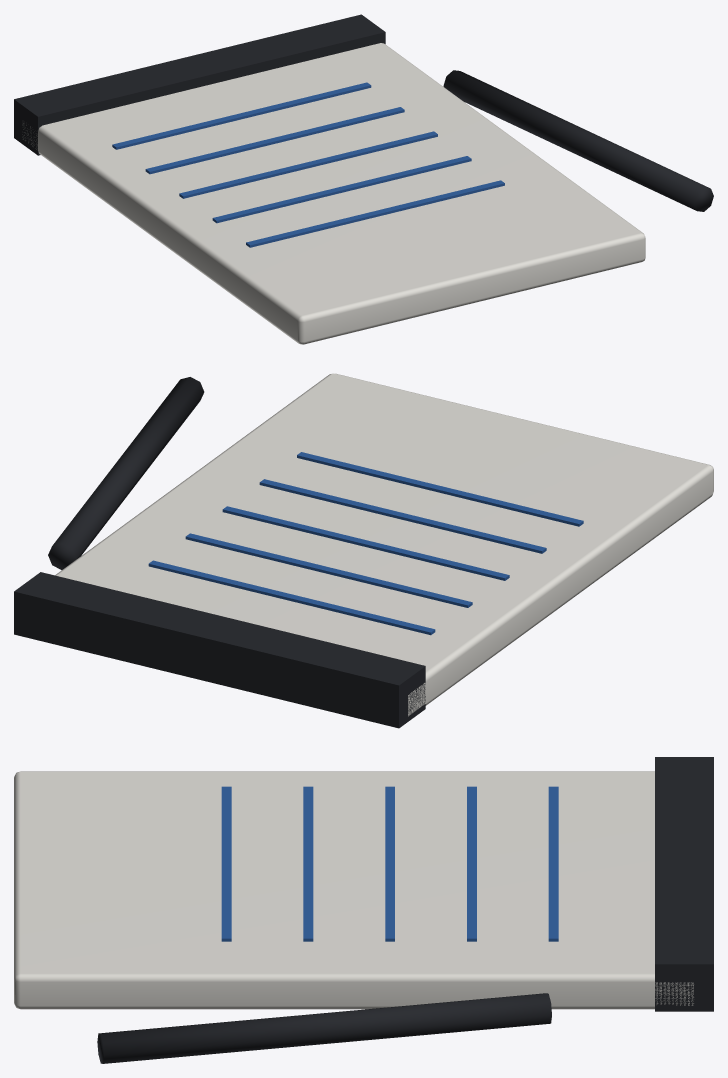
The model's file is RmNotepad.fbx.
3 views of the same model, one above another, from view 1: azimuth 30°, elevation 25°; view 2: azimuth 150°, elevation 25°; view 3: azimuth 270°, elevation 25° (orthographic). The views are drawn at different scales.
Parts seen in each view (by area): view 1: RmNotepadBody; view 2: RmNotepadBody; view 3: RmNotepadBody.
Boxes of the visible parts, box(x1,y1,x2,y2) form: RmNotepadBody: box(14, 14, 713, 344); RmNotepadBody: box(14, 373, 713, 728); RmNotepadBody: box(14, 757, 713, 1063).
Size of the model in its own units: 0.1944 by 0.016 by 0.214.
